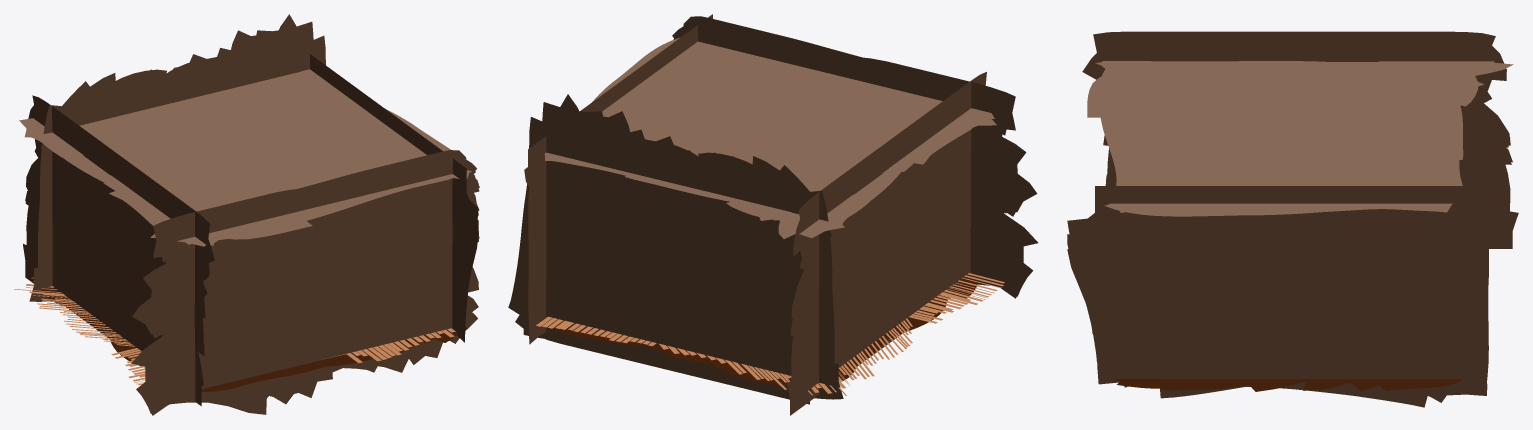
The picture shows the model from 3 angles, left to right: view 1: azimuth 30°, elevation 25°; view 2: azimuth 150°, elevation 25°; view 3: azimuth 270°, elevation 25°; orthographic projection. The views are drawn at different scales.
Parts seen in each view (by area): view 1: Flat_geo; view 2: Flat_geo; view 3: Flat_geo.
Part boxes in pixels (x1,y1,x2,y2): Flat_geo: (14,14,479,415); Flat_geo: (508,14,1038,415); Flat_geo: (1067,31,1518,407).
Size of the model in its own units: 5.06 by 3.47 by 4.89.
